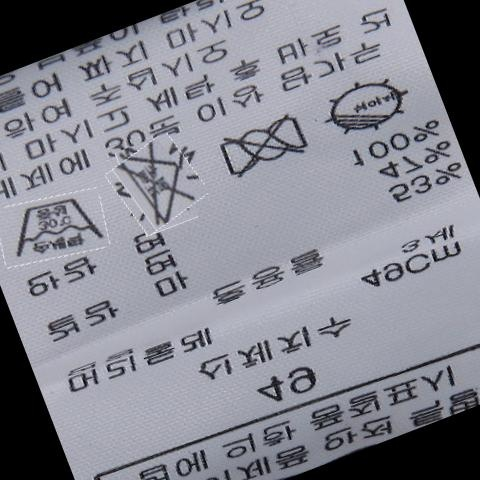DN_wring: (210, 120, 311, 171)
dry_flat_in_shade: (319, 79, 411, 134)
hand_wash: (10, 200, 101, 258)
non_chlorine_bleach: (119, 155, 196, 223)
